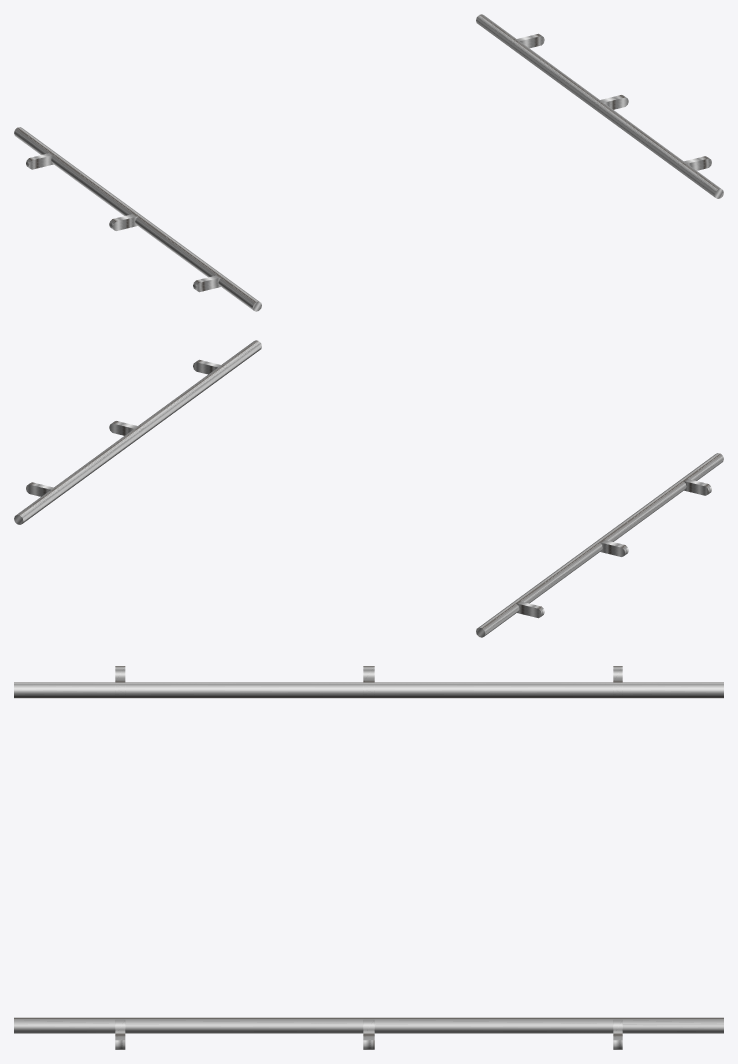
Rendered from Barre_Ascenseur.FBX.
The picture shows the model from 3 angles, top to bottom: view 1: azimuth 30°, elevation 25°; view 2: azimuth 150°, elevation 25°; view 3: azimuth 270°, elevation 25°; orthographic projection. The views are drawn at different scales.
Parts seen in each view (by area): view 1: Barre001; view 2: Barre001; view 3: Barre001.
Part boxes in pixels (x1,y1,x2,y2): Barre001: (14, 14, 723, 311); Barre001: (14, 340, 723, 637); Barre001: (14, 666, 723, 1049).
Bounding box in the file's own units: 162 × 2.85 × 130.
Materials: 1 (1 with a texture image).
